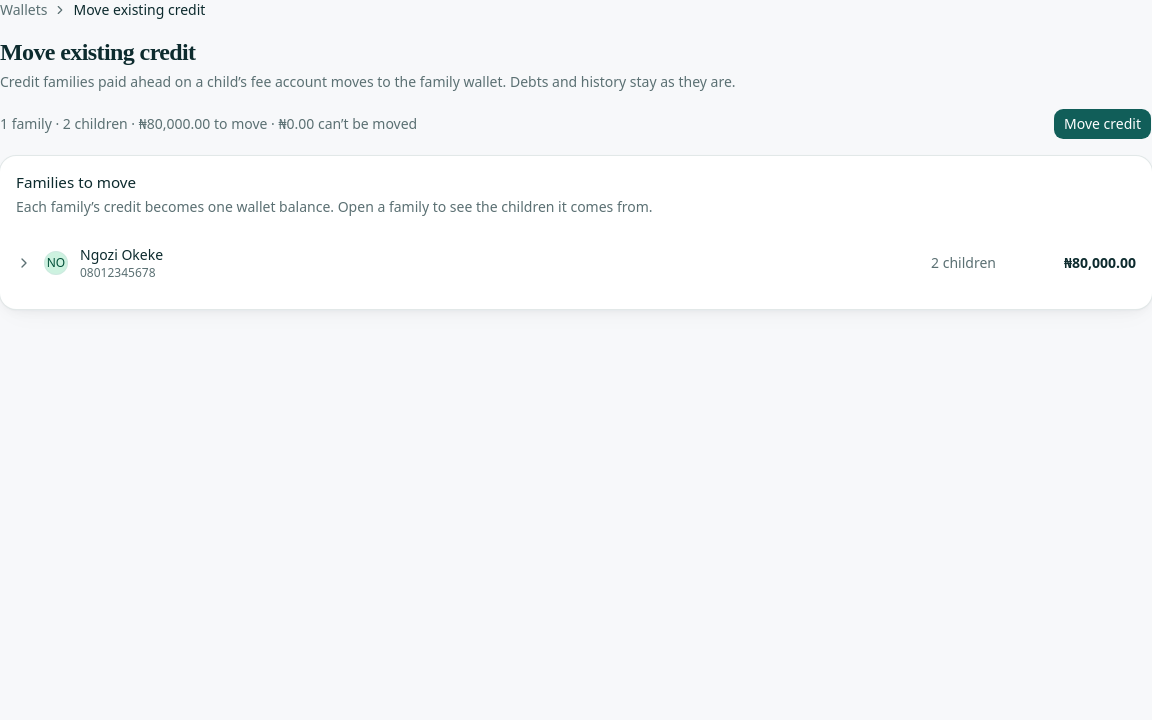
CreditMigrationPage › on a 409 without a report reads the figures again
The image size is (1152, 720).
Click the button "Move credit".
click(1103, 124)  # box 1053,108 -> 1151,140
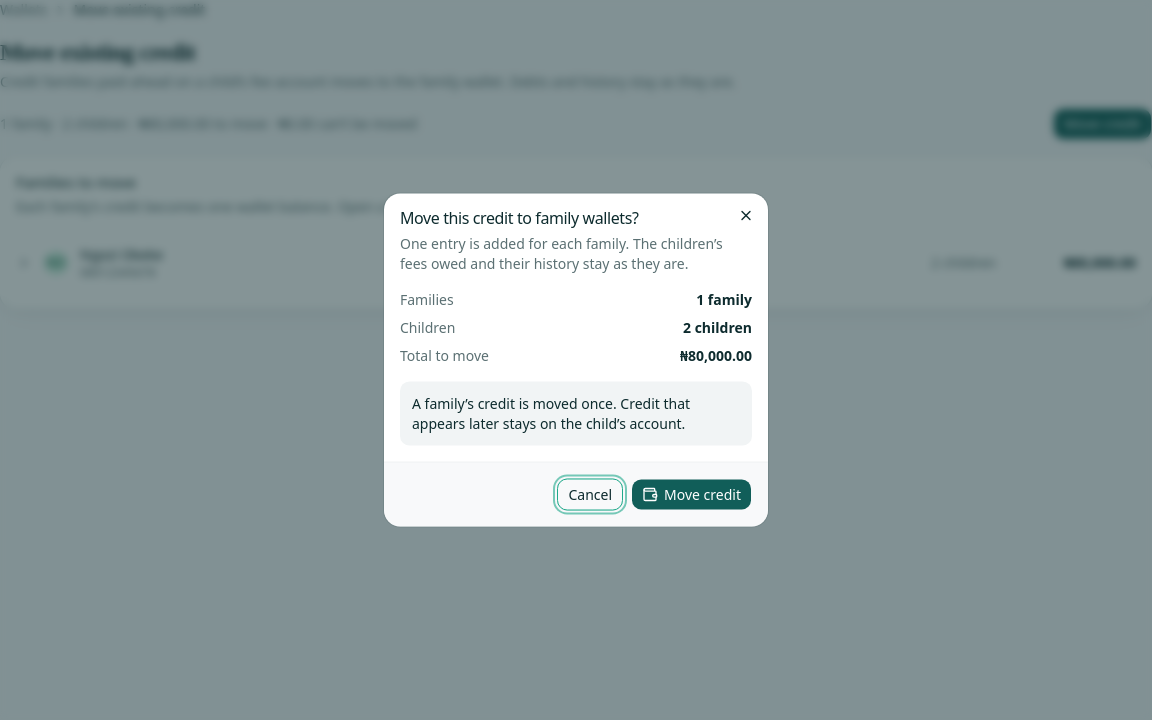
Click the button "Move credit".
click(692, 494)  # box 631,478 -> 752,510
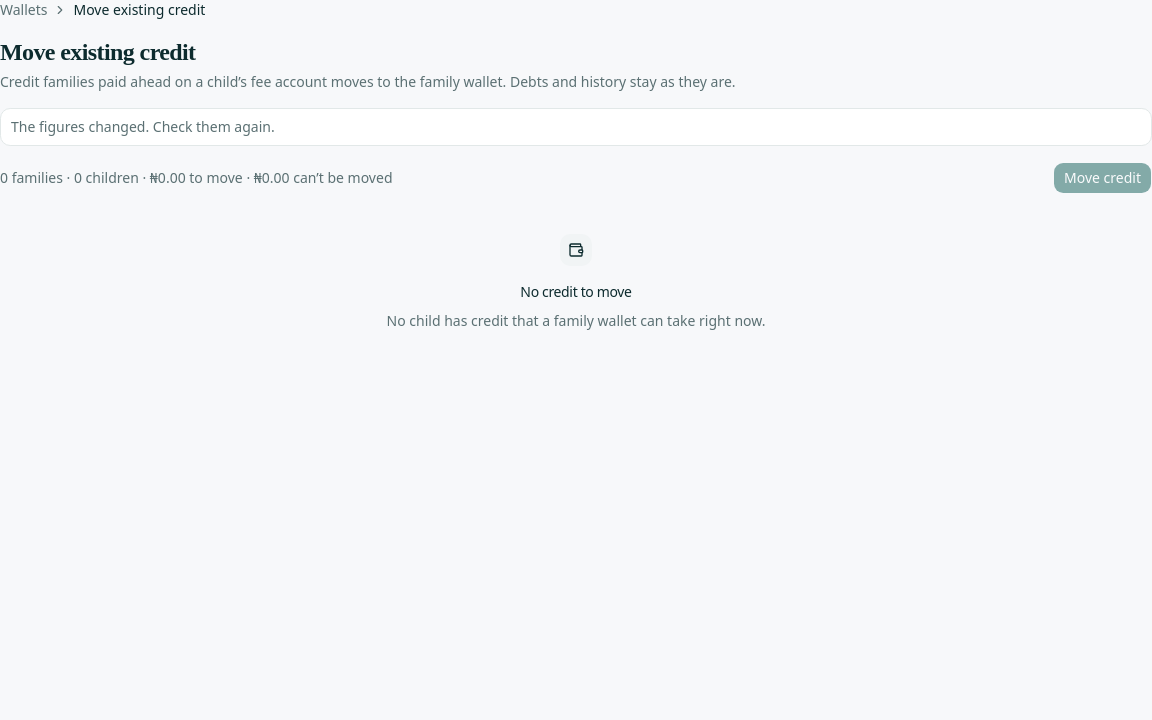
Expected: the text "No credit to move" is shown, 520,282 -> 632,302
Expected: the message reads "The figures changed. Check them again.", 11,117 -> 275,136
